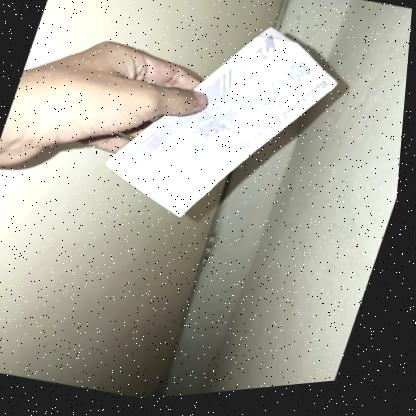vef_back: (92, 0, 355, 256)
